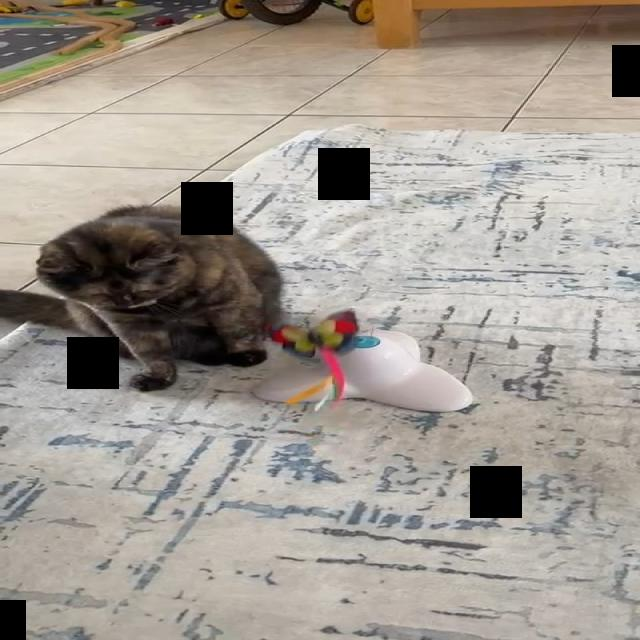authorized: (35, 203, 284, 367), (0, 288, 267, 392)
